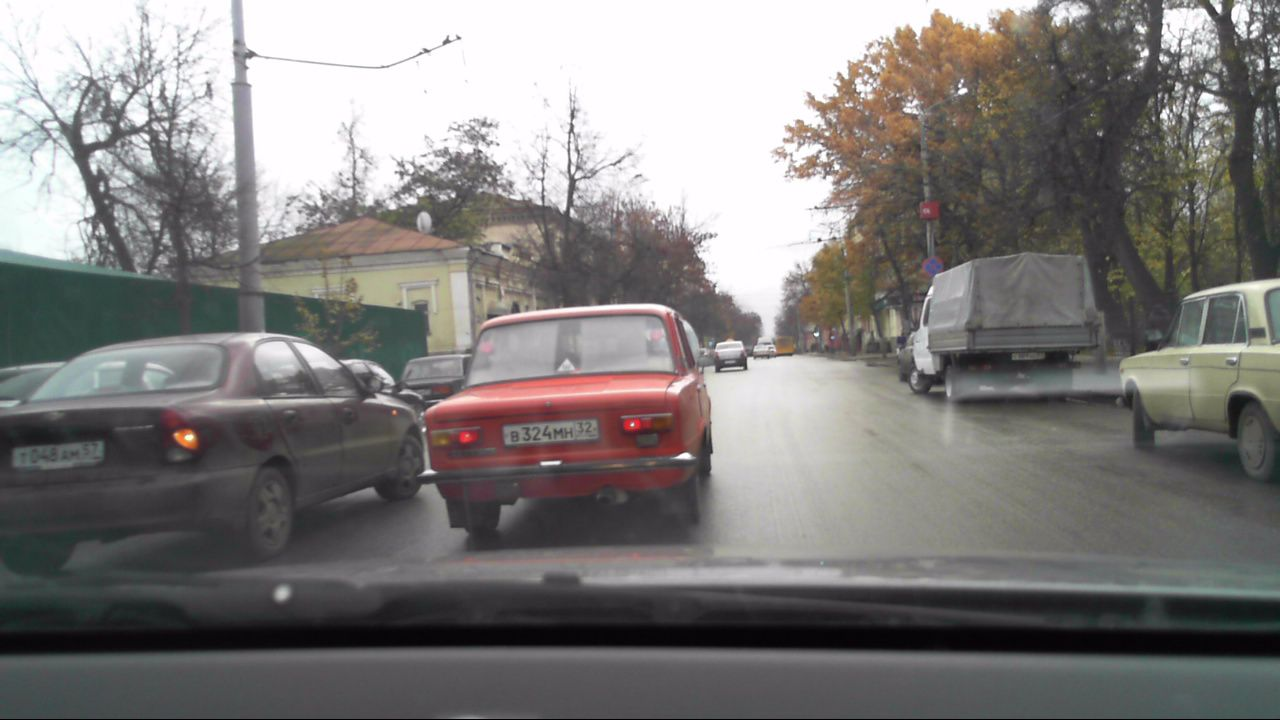No Parking: (920, 252, 943, 276)
